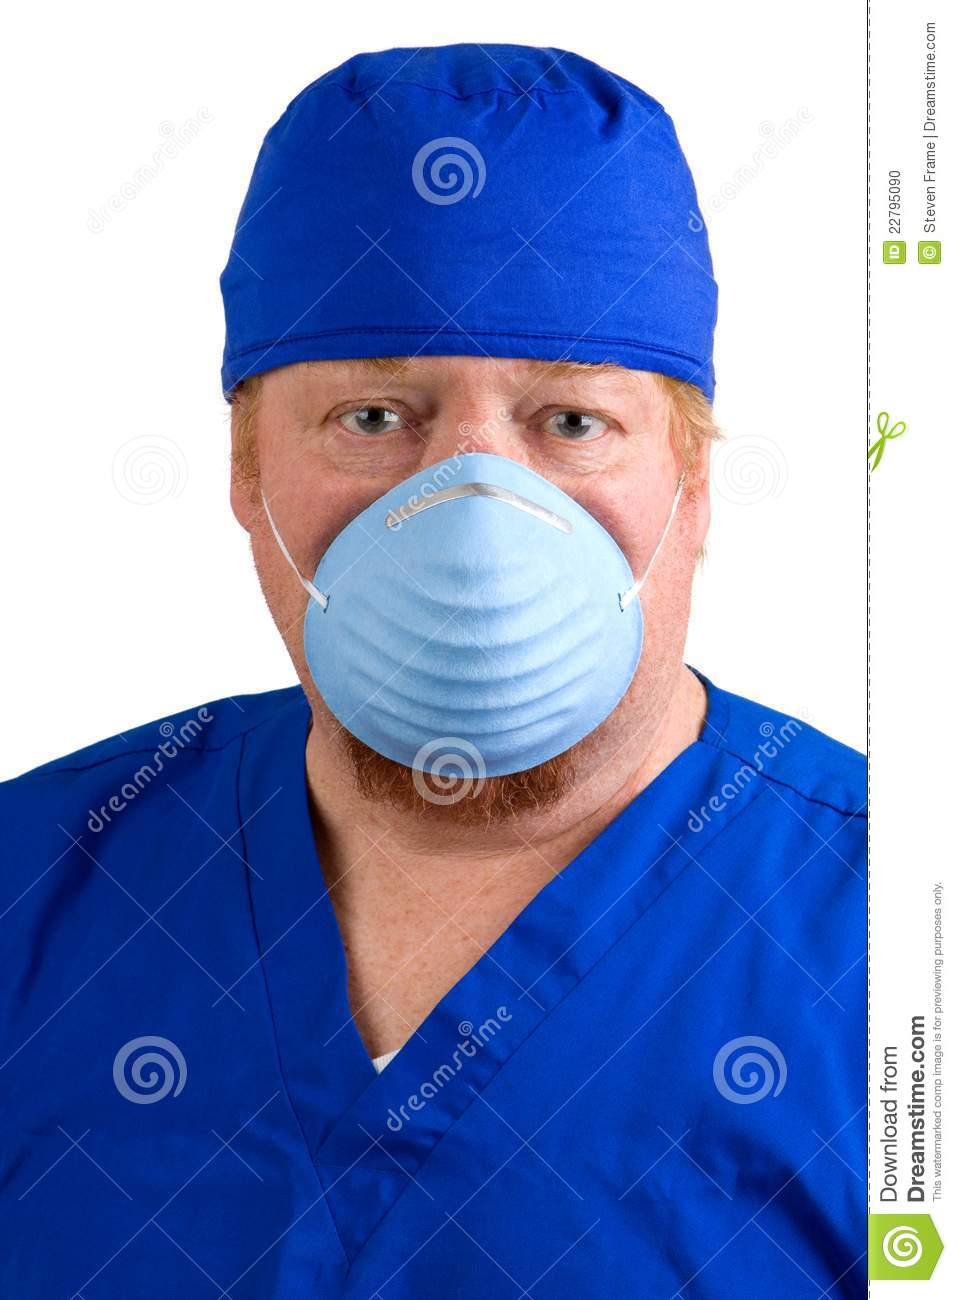mask: (318, 481, 658, 775)
